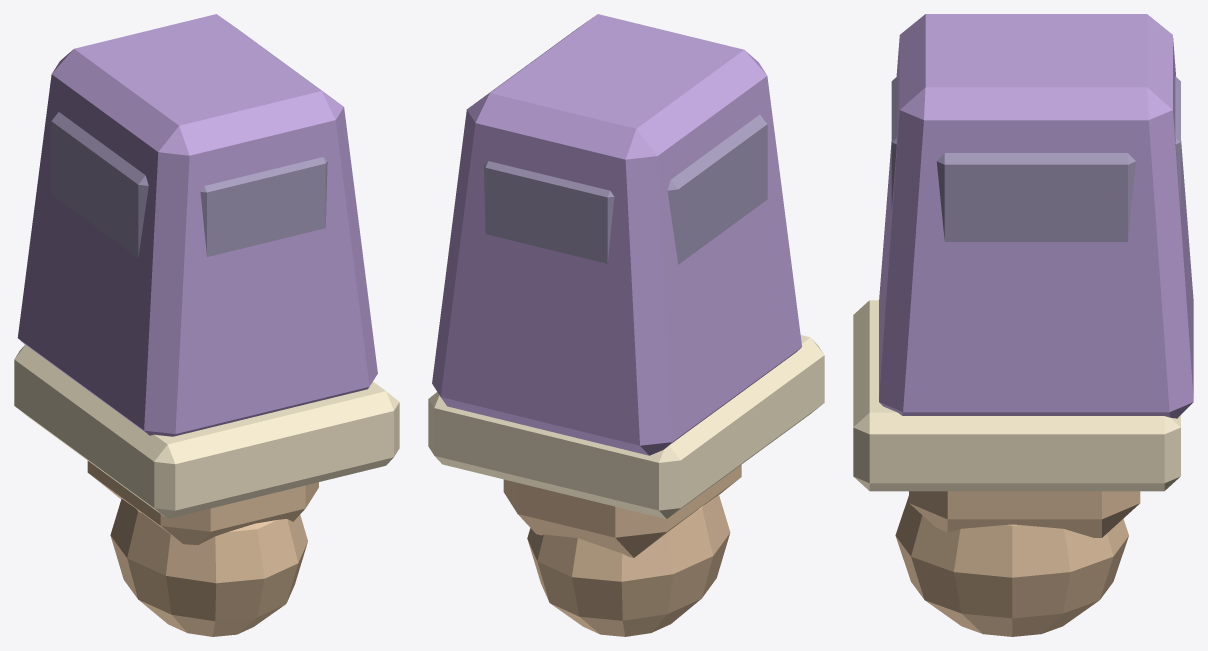
File: Oracle_Peasant_LeftArm.fbx
3 renders of one model, left to right at view 1: azimuth 30°, elevation 25°; view 2: azimuth 150°, elevation 25°; view 3: azimuth 270°, elevation 25°, orthographic. The views are drawn at different scales.
Visible parts, largest first — view 1: Oracle_Peasant_LeftArm; view 2: Oracle_Peasant_LeftArm; view 3: Oracle_Peasant_LeftArm.
Part boxes in pixels (left/top/right/bottom): Oracle_Peasant_LeftArm: left=14, top=14, right=399, bottom=636; Oracle_Peasant_LeftArm: left=428, top=14, right=824, bottom=636; Oracle_Peasant_LeftArm: left=853, top=14, right=1193, bottom=636.
Size of the model in its own units: 31 by 66.12 by 35.33.
